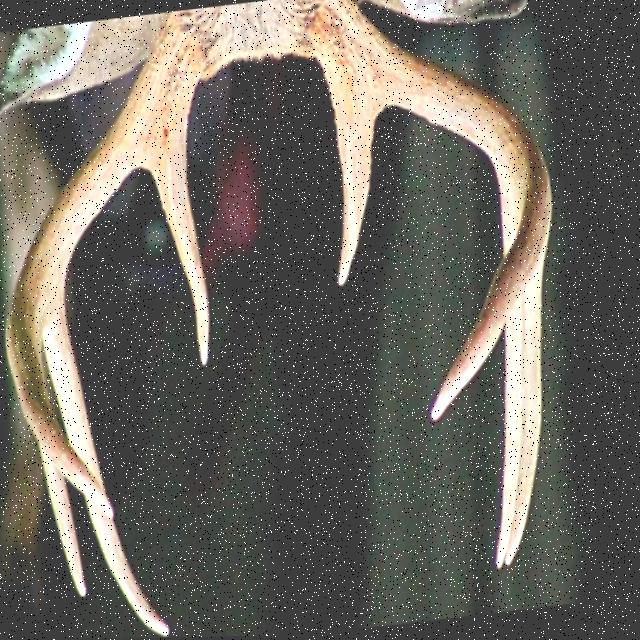L-F: (308, 0, 553, 423)
L-G1: (331, 90, 385, 288)
R-F: (9, 11, 206, 519)
R-G1: (152, 151, 212, 366)
